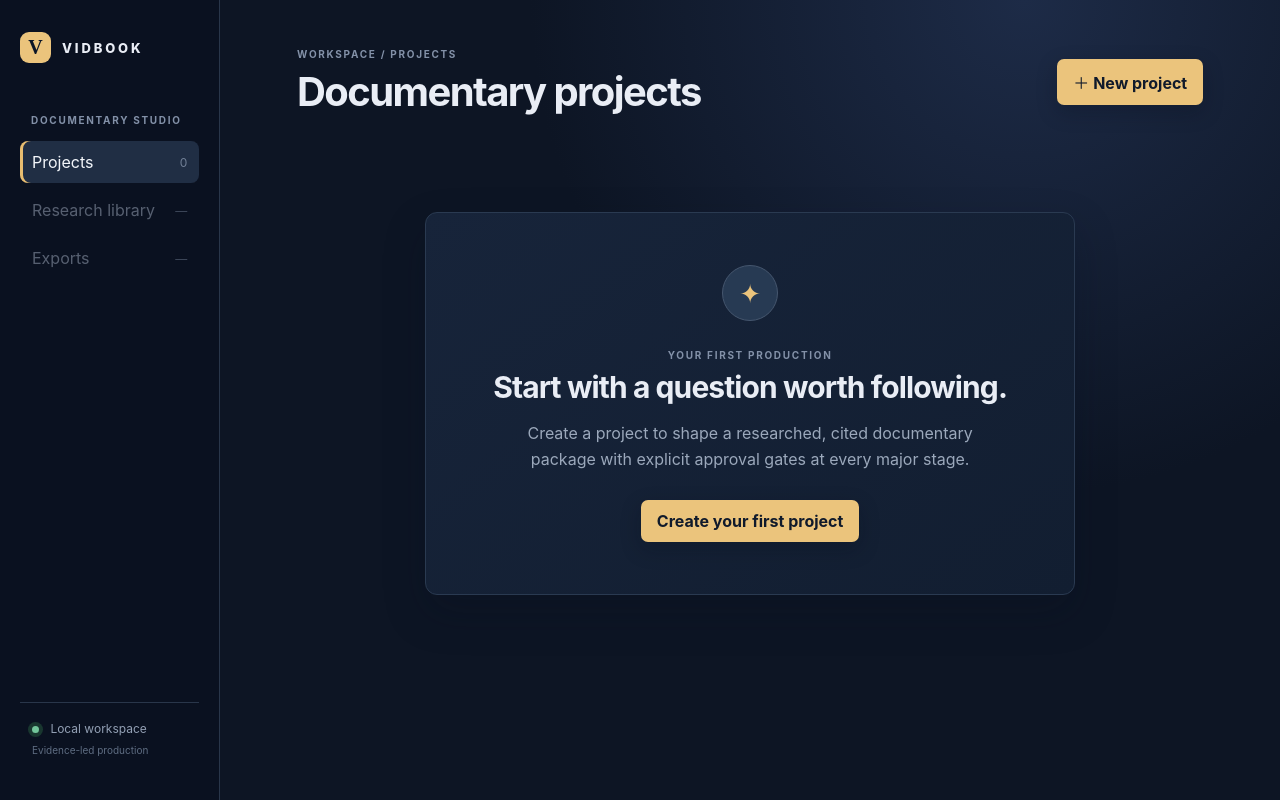
it: project dashboard › creates a project and presents its first approval gate
This screenshot has width=1280, height=800.
Step 1. Click the button "Create your first project" → (750, 521), box [641,500,859,542]
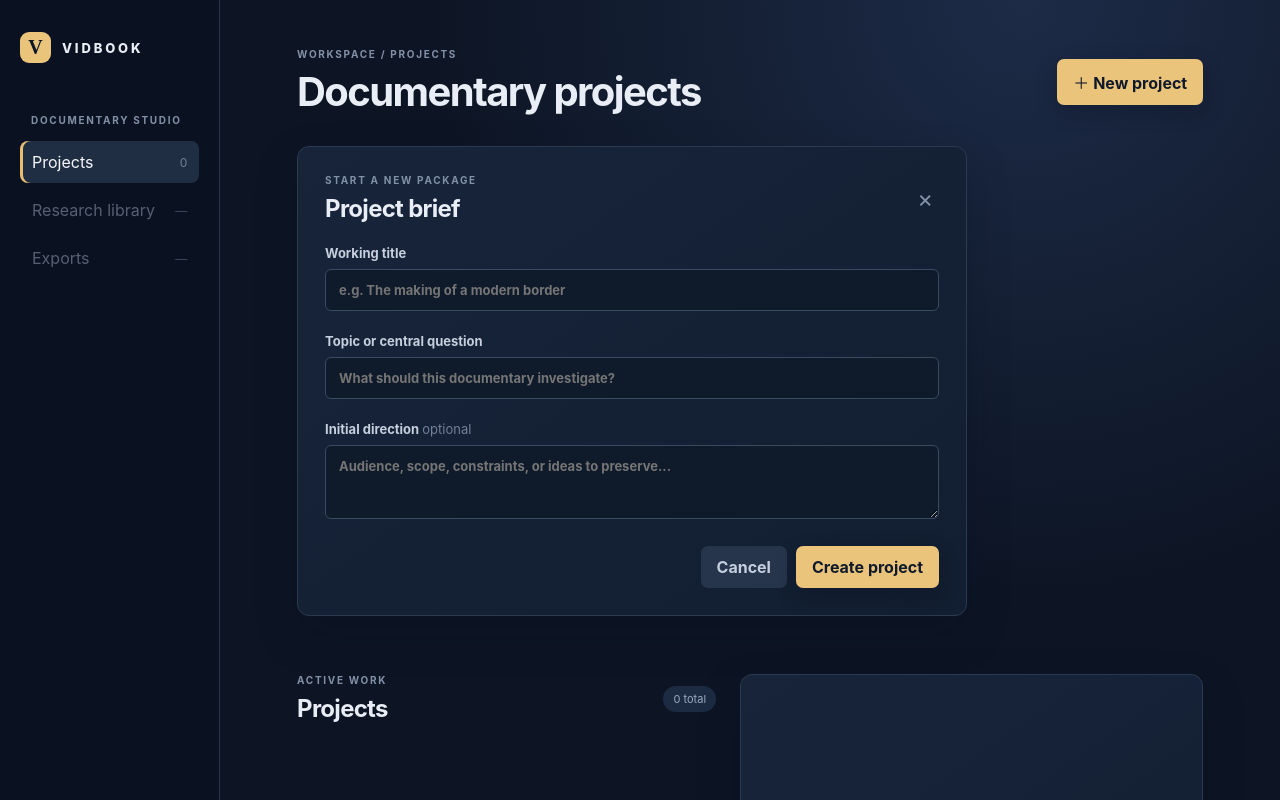
Step 2. Type "The Silk Roads" into the field labelled "Working title" → (632, 290), box [325,269,939,311]
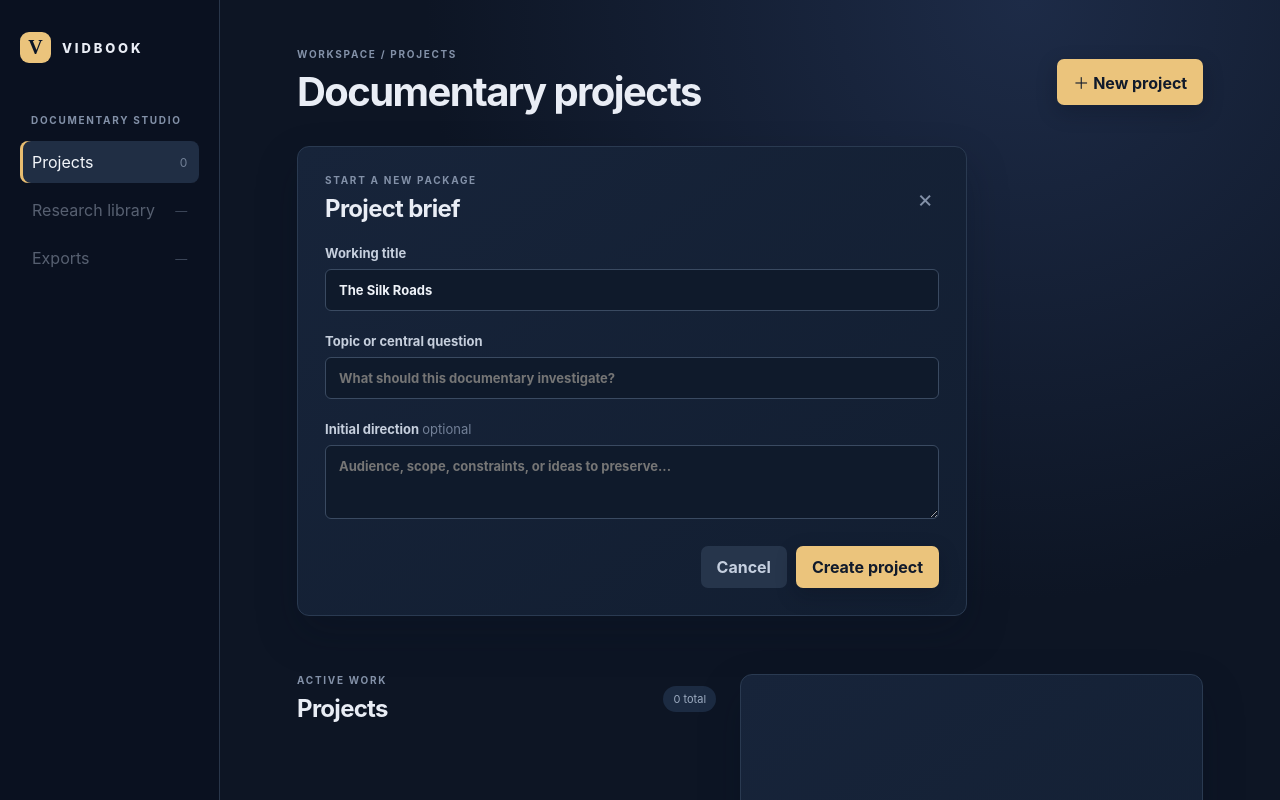
Step 3. Type "How trade connected Eurasia" into the field labelled "Topic or central question" → (632, 378), box [325,357,939,399]
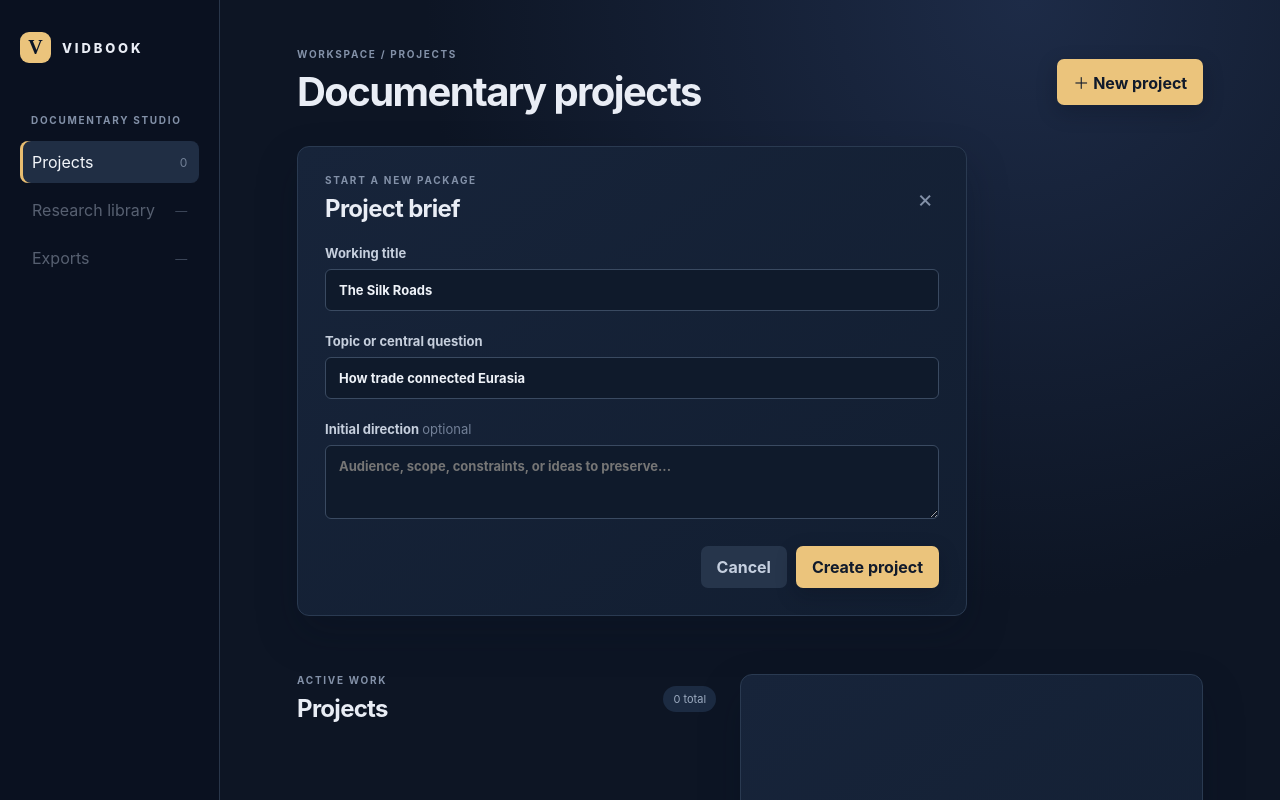
Step 4. Submit the form named "create project", box [297,146,967,616]
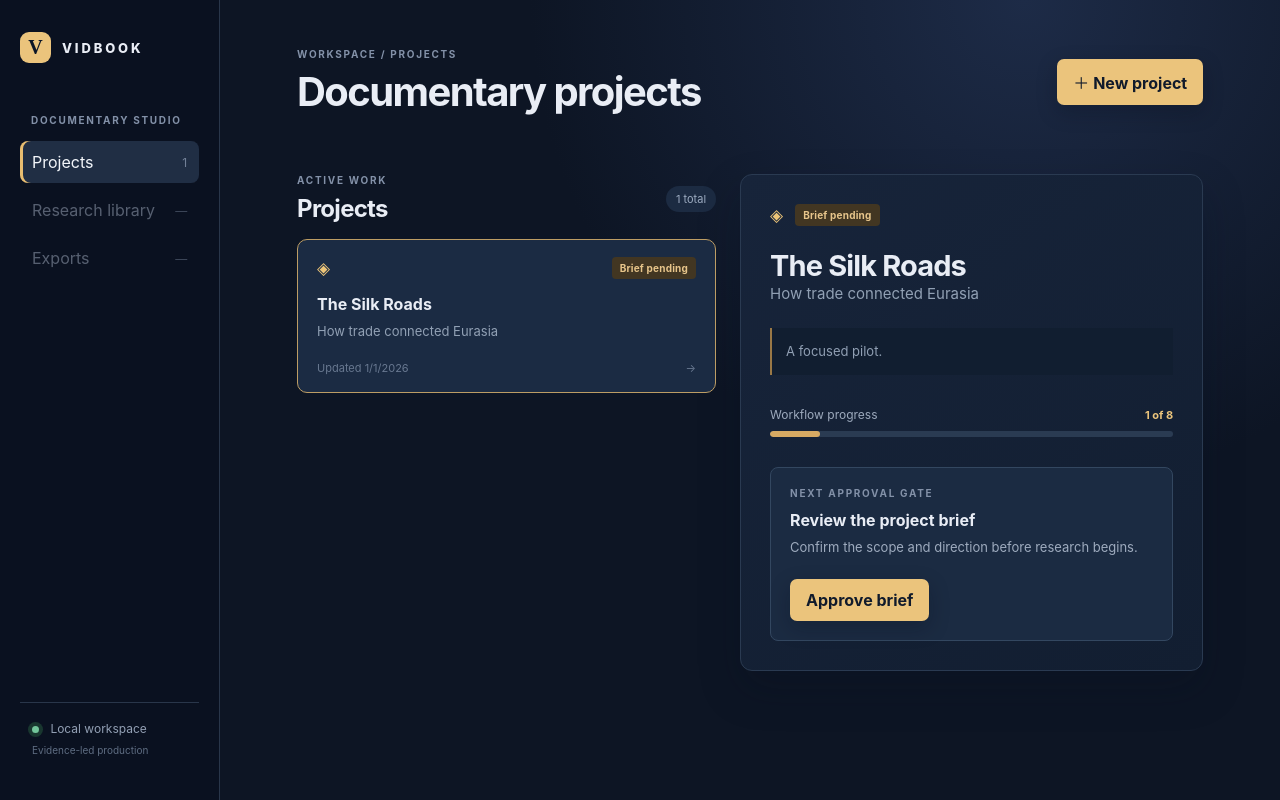
Expected: the 1st heading "The Silk Roads" is shown, [770,248,966,283]
Expected: the button "Approve brief" is shown, [790,578,929,620]
